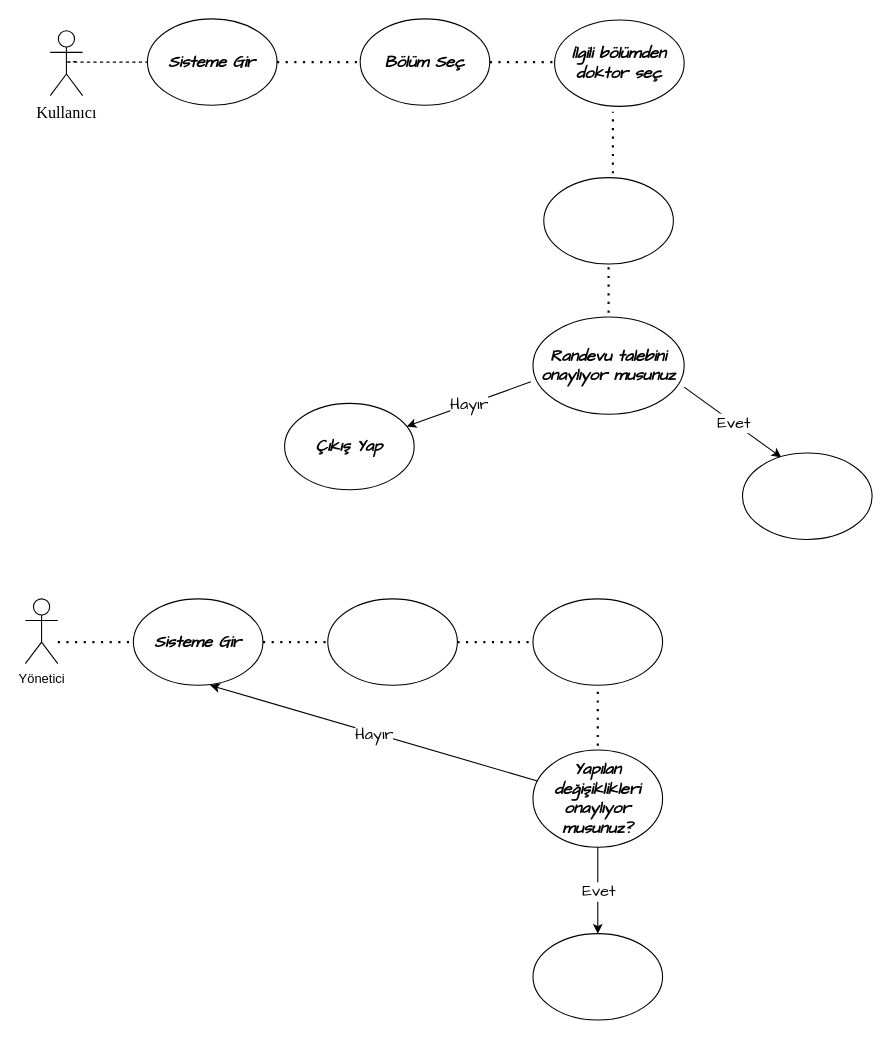
This 891x1039 diagram has some shape labels left out. The shapes that lost their labels are listed below. From the top down, each one's centre as x and y in pixels, then its label:
point 608,220: Doktordan uygun randevu ara
point 806,495: Randevunuz oluşturuldu
point 392,641: Bölüm Ekle
point 597,641: Doktor Ekle
point 597,976: Değişiklik kaydedildi
